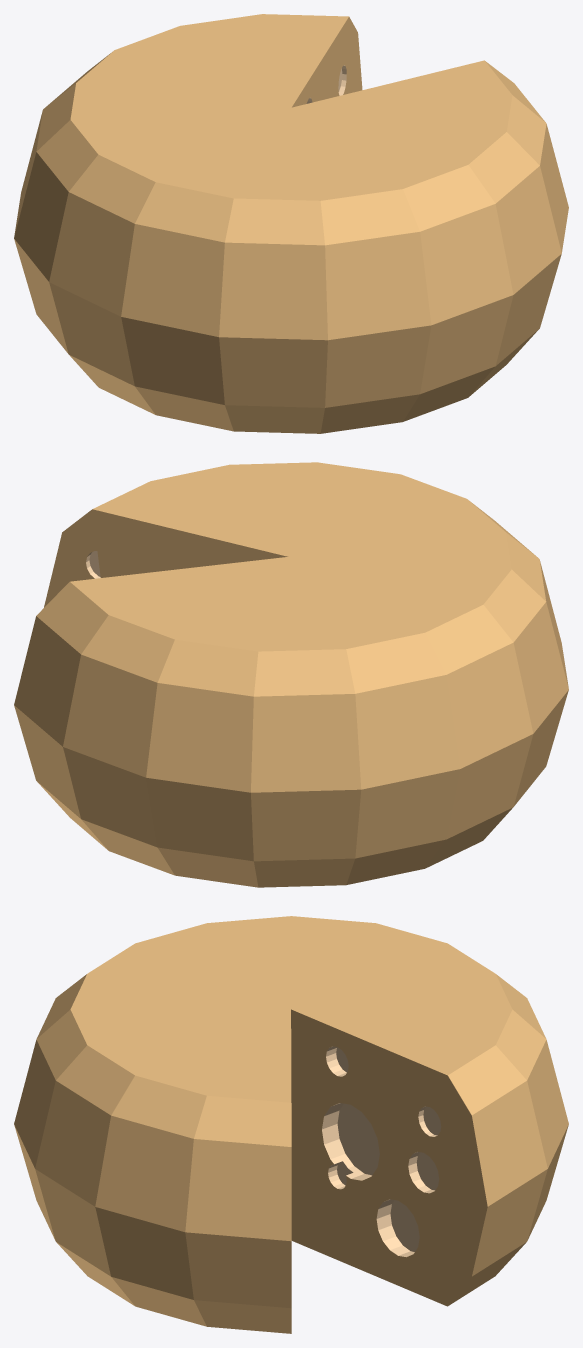
Rendered from LowPoly_Cheese02.fbx.
3 views of the same model, one above another, from view 1: azimuth 30°, elevation 25°; view 2: azimuth 150°, elevation 25°; view 3: azimuth 270°, elevation 25° (orthographic). The views are drawn at different scales.
Parts seen in each view (by area): view 1: Cheese; view 2: Cheese; view 3: Cheese.
Part boxes in pixels (left/top/right/bottom): Cheese: left=14, top=14, right=568, bottom=433; Cheese: left=14, top=462, right=568, bottom=887; Cheese: left=14, top=916, right=568, bottom=1333.
Size of the model in its own units: 79.96 by 36.75 by 79.96.
